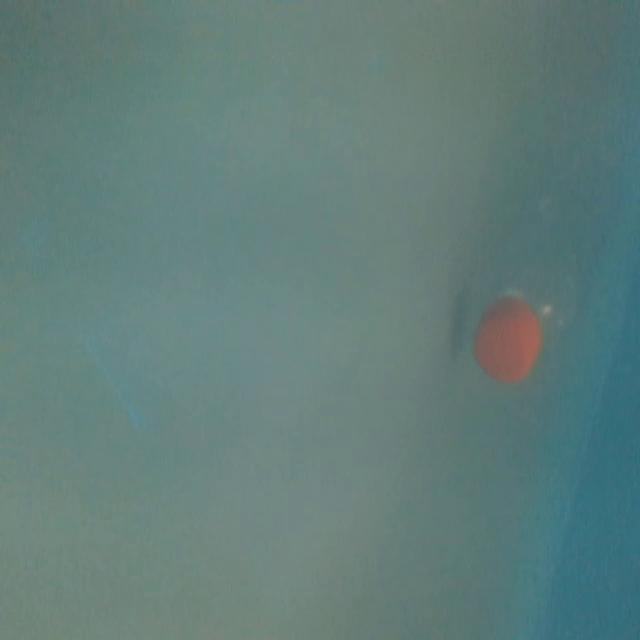plastic bottle: (473, 146, 615, 386)
